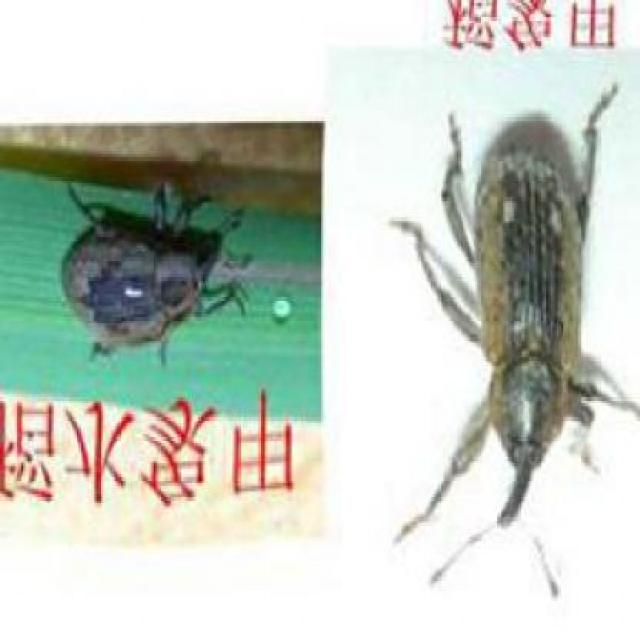rice-bug: (435, 122, 620, 530), (57, 206, 220, 352)
